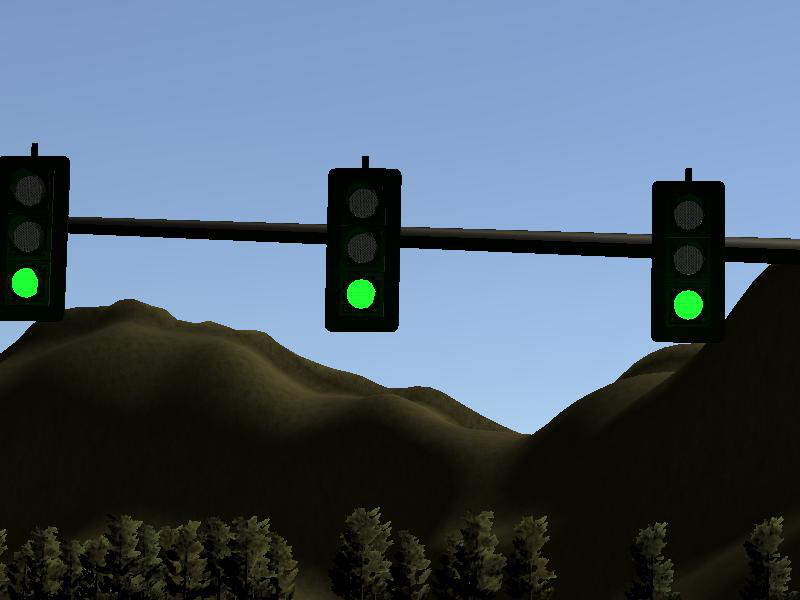green: (327, 167, 401, 333), (651, 180, 725, 343), (1, 157, 71, 322)
